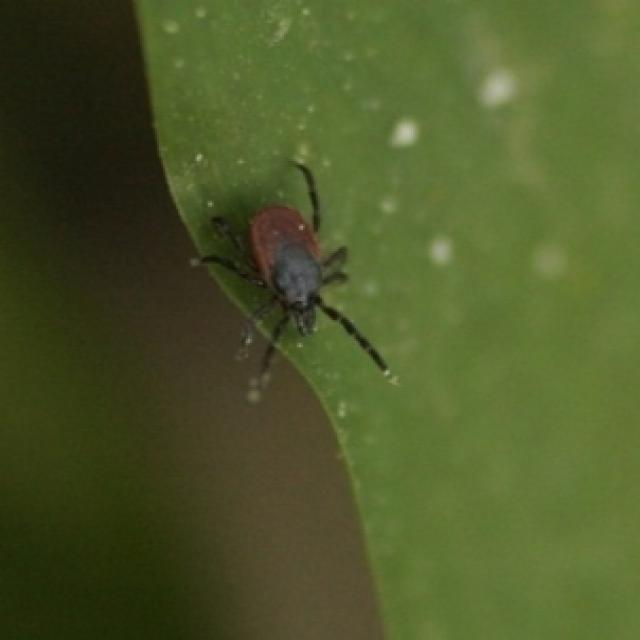Ixodes Ricinus-F: (189, 161, 398, 395)
